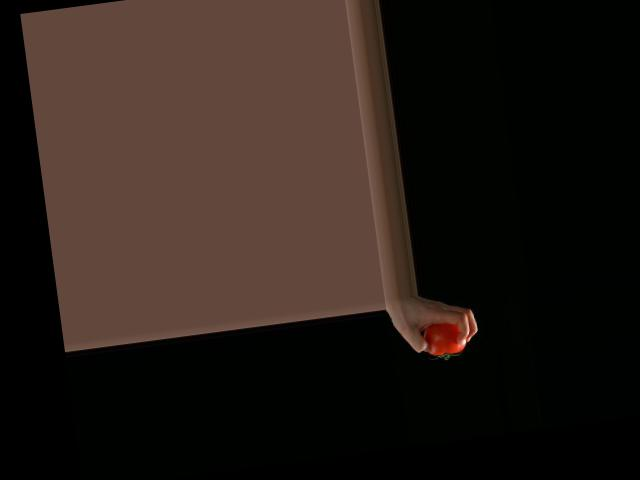tomato: (421, 321, 467, 361)
